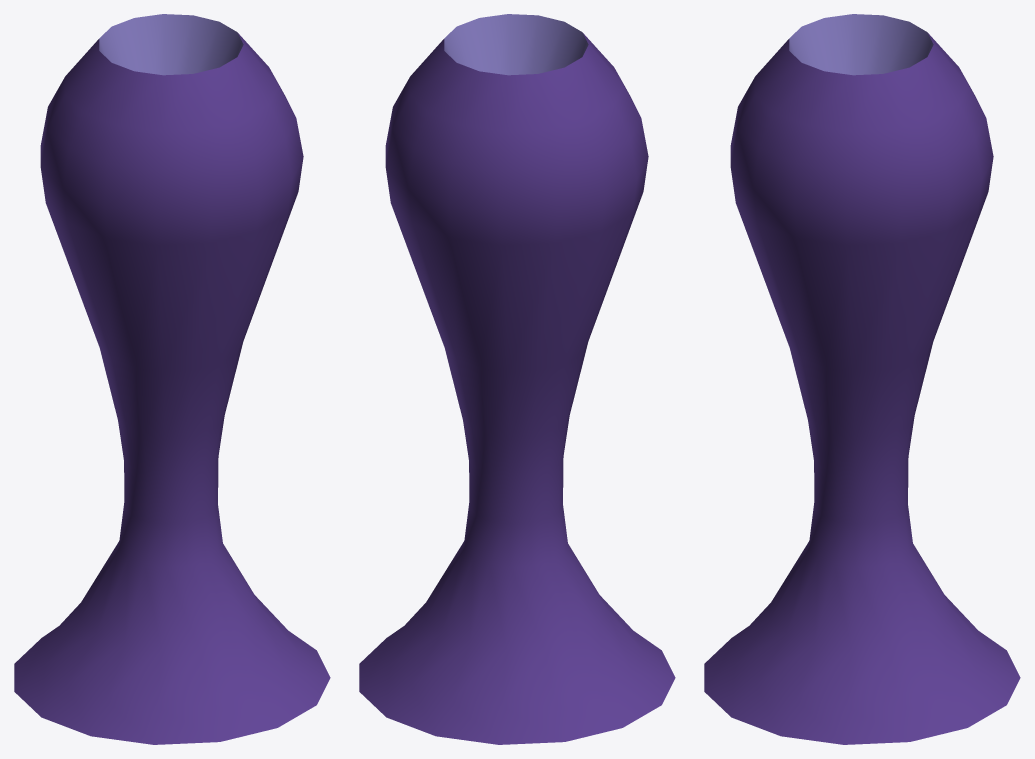
Rendered from SM_lampe.fbx.
3 views of the same model, side by side, from view 1: azimuth 30°, elevation 25°; view 2: azimuth 150°, elevation 25°; view 3: azimuth 270°, elevation 25° (orthographic).
Visible parts, largest first — view 1: Cylinder.004; view 2: Cylinder.004; view 3: Cylinder.004.
Part boxes in pixels (bbox=[...]): Cylinder.004: bbox=[14, 14, 330, 744]; Cylinder.004: bbox=[359, 14, 675, 744]; Cylinder.004: bbox=[704, 14, 1020, 744].
Size of the model in its own units: 95.9 by 211 by 95.38.
